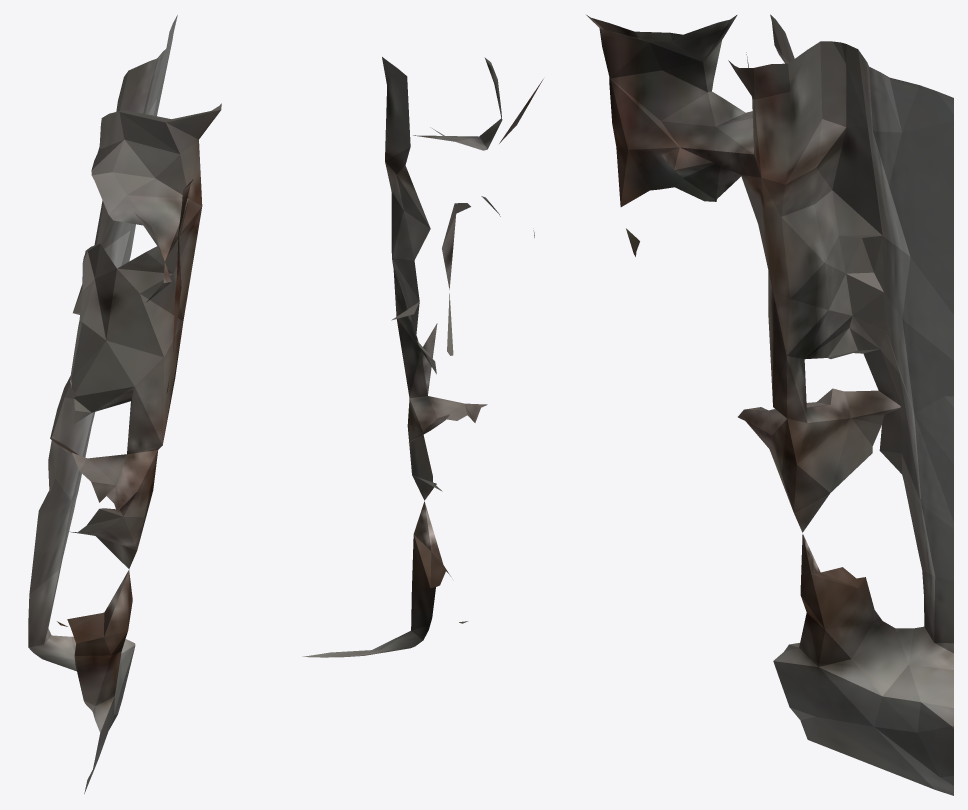
The picture shows the model from 3 angles, left to right: view 1: azimuth 30°, elevation 25°; view 2: azimuth 150°, elevation 25°; view 3: azimuth 270°, elevation 25°; orthographic projection. The views are drawn at different scales.
Bounding box in the file's own units: 0.2037 × 0.8754 × 0.3782.
1 material, 1 textured.
